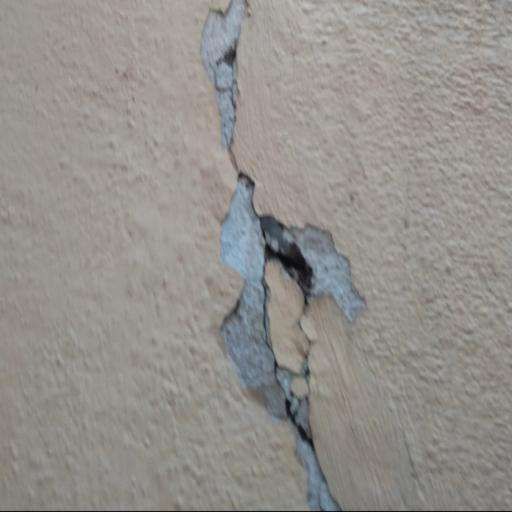major_crack: (190, 0, 375, 512)
